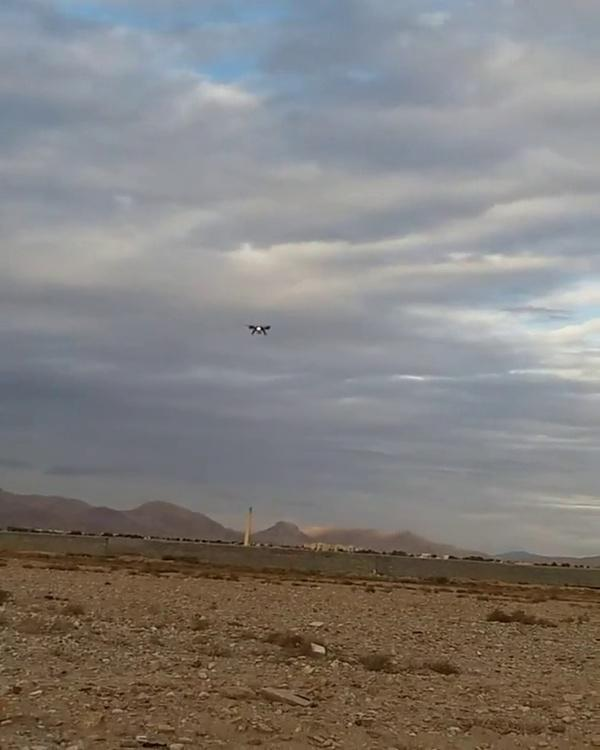drone: (244, 318, 274, 338)
